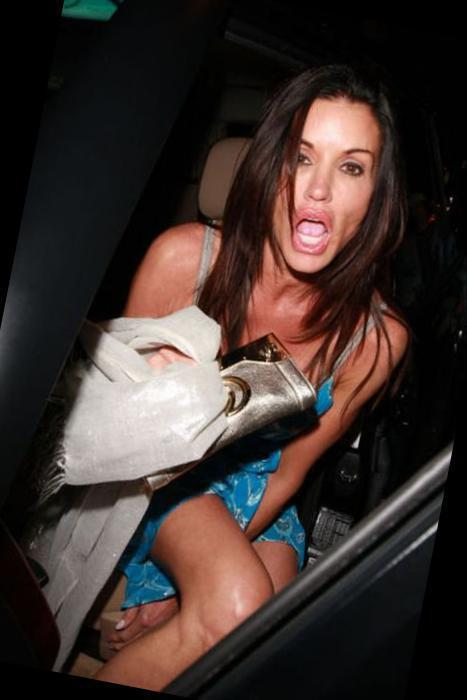Drunk: (268, 93, 375, 276)
